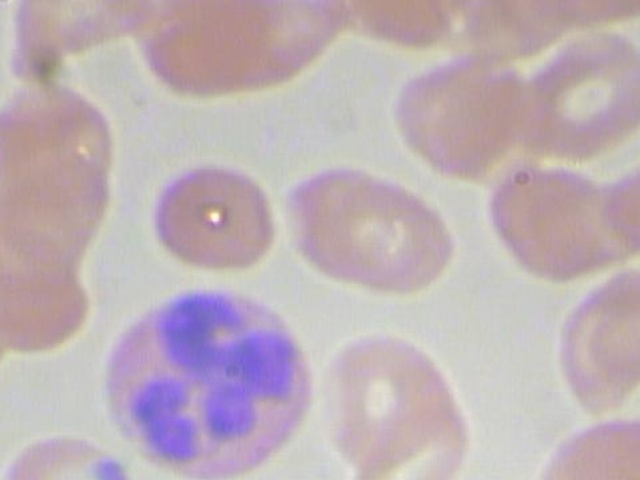RBC: (315, 319, 451, 474), (510, 28, 640, 166), (386, 45, 515, 179), (326, 172, 455, 299), (274, 159, 404, 283), (149, 163, 281, 275), (131, 0, 276, 98), (0, 426, 133, 480), (597, 150, 640, 261), (580, 404, 640, 480), (632, 250, 640, 347)
WBC: (105, 276, 316, 480)
